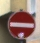No entry: (6, 5, 35, 37)
